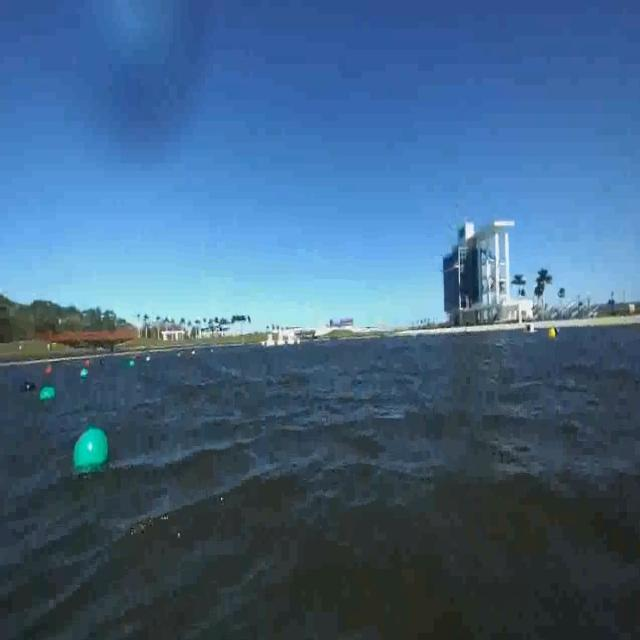black-buoy: (22, 382, 35, 392)
green-buoy: (73, 428, 111, 475), (40, 386, 56, 402), (80, 367, 87, 378)
yellow-buoy: (550, 328, 559, 342)
